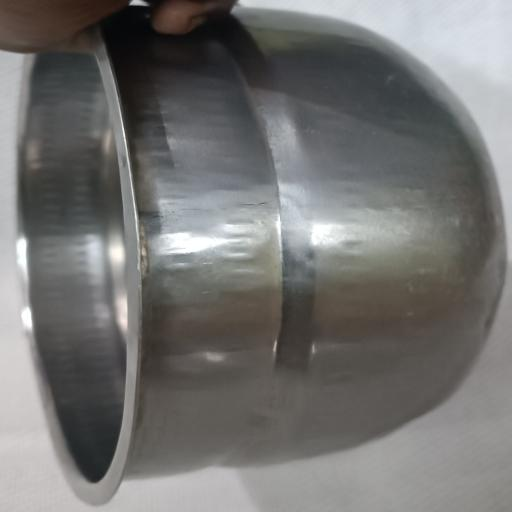vessel: (18, 8, 505, 504)
